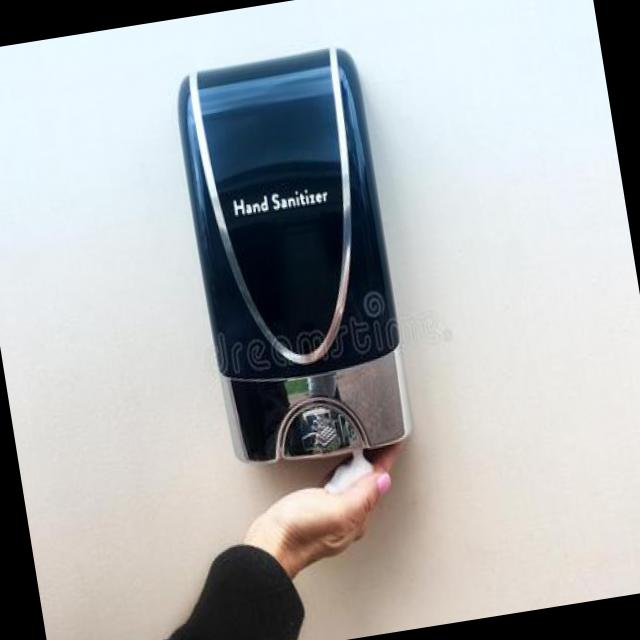sanitizer: (162, 36, 418, 469)
